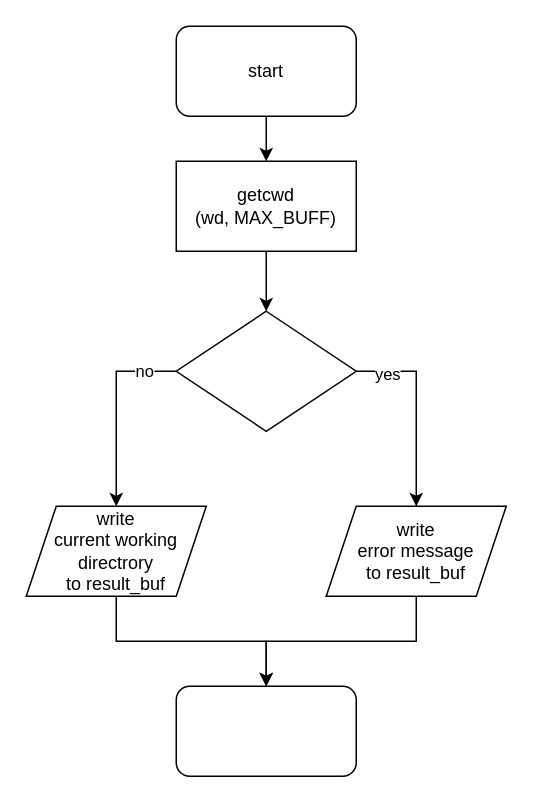
The diagram is 533 pixels wide and 803 high, and some of its shapes have lost their labels. The centre of each missing label's shape, as x and y in pixels:
end: the point at 265,730
fail?: the point at 265,370
